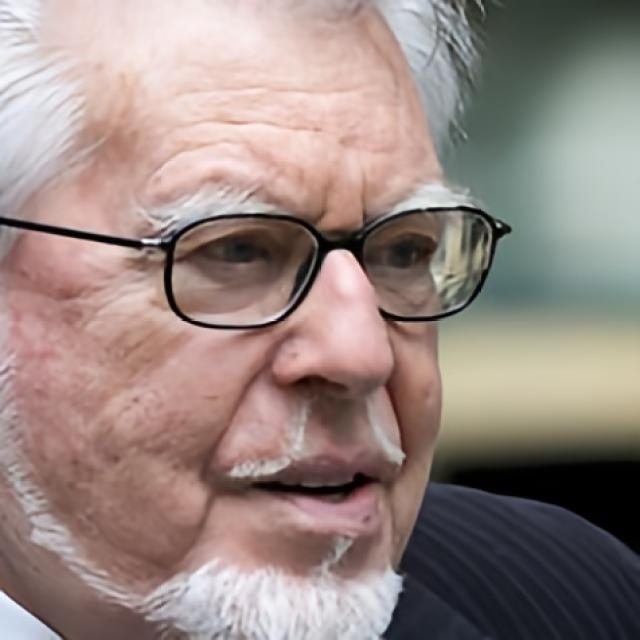anger: (133, 61, 460, 606)
